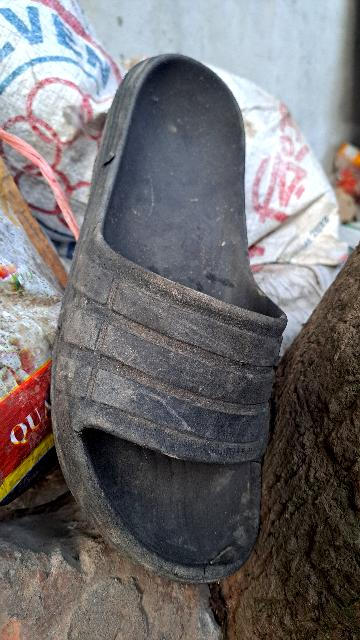sandal: (48, 52, 291, 597)
